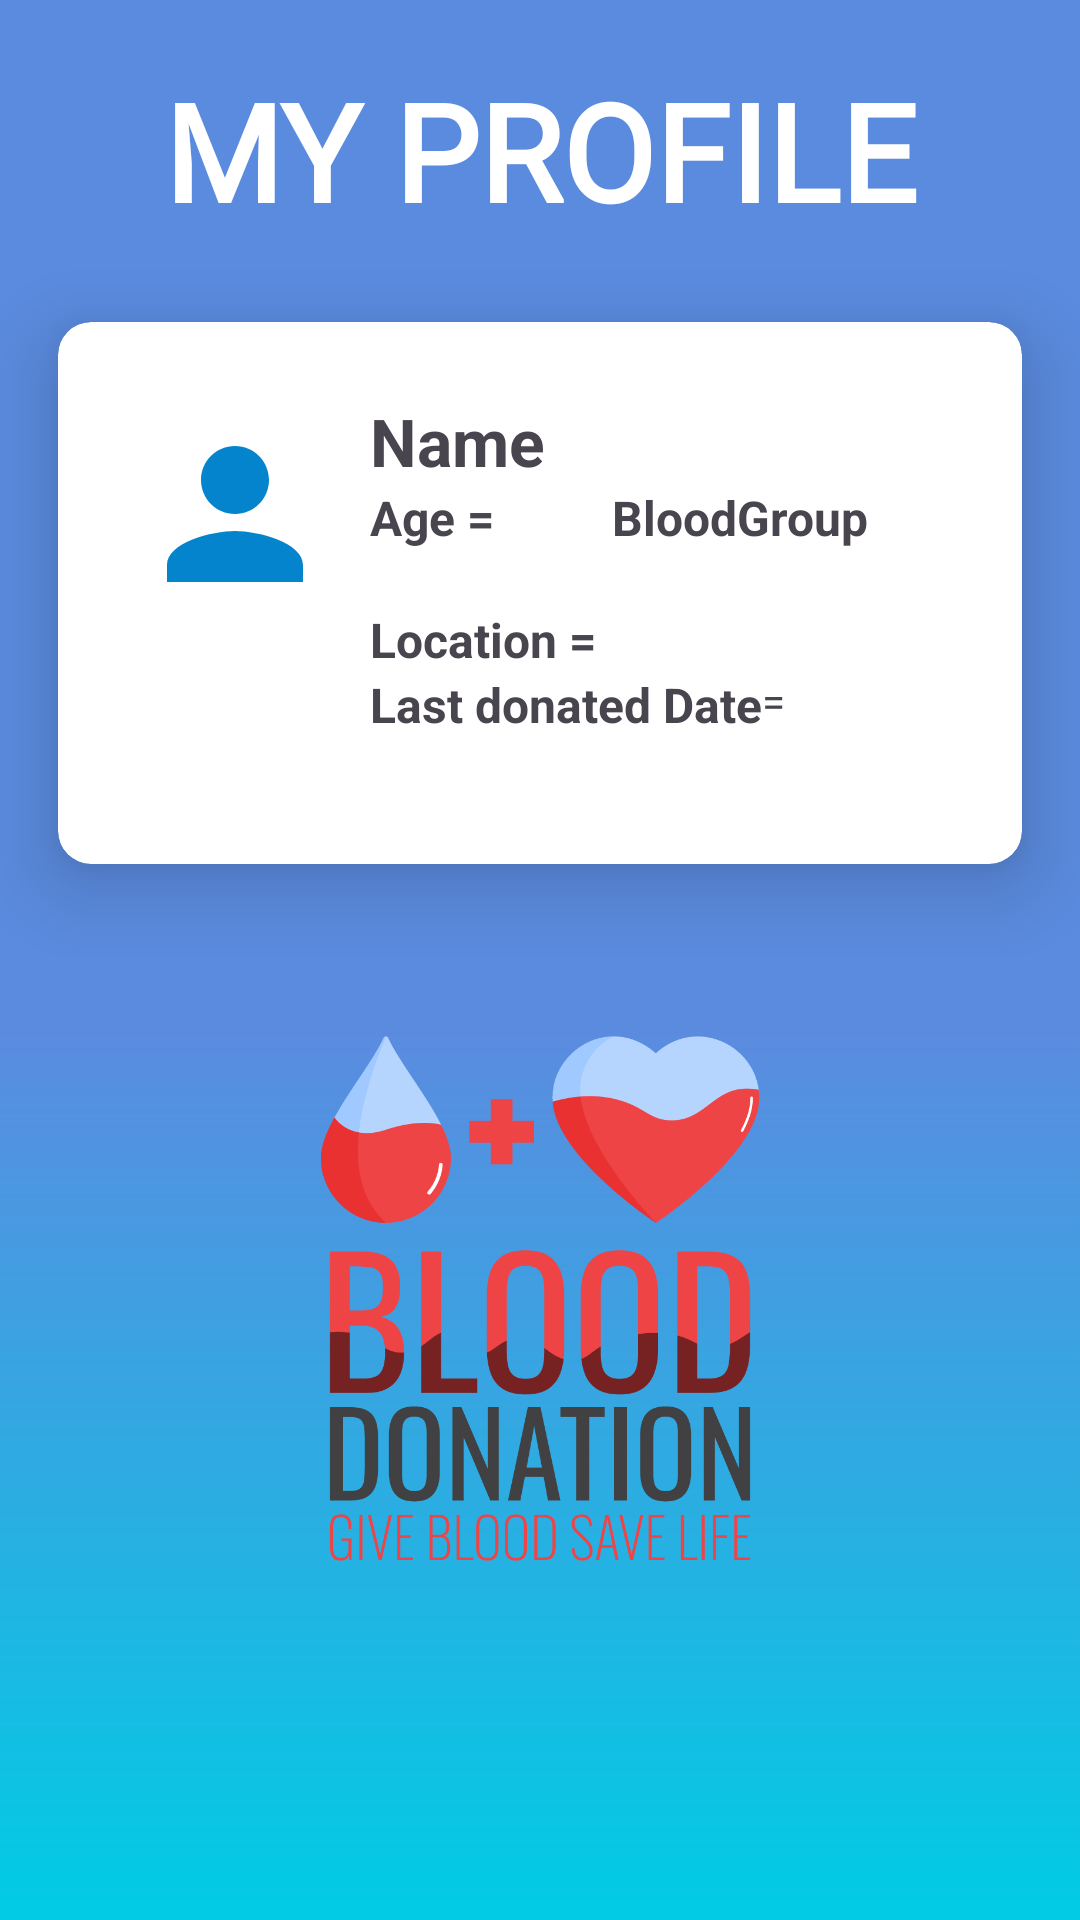

Point at icon controls on the screen. Image size 1080w x 1920h, points as point (x, y).
person: point (235, 514)
